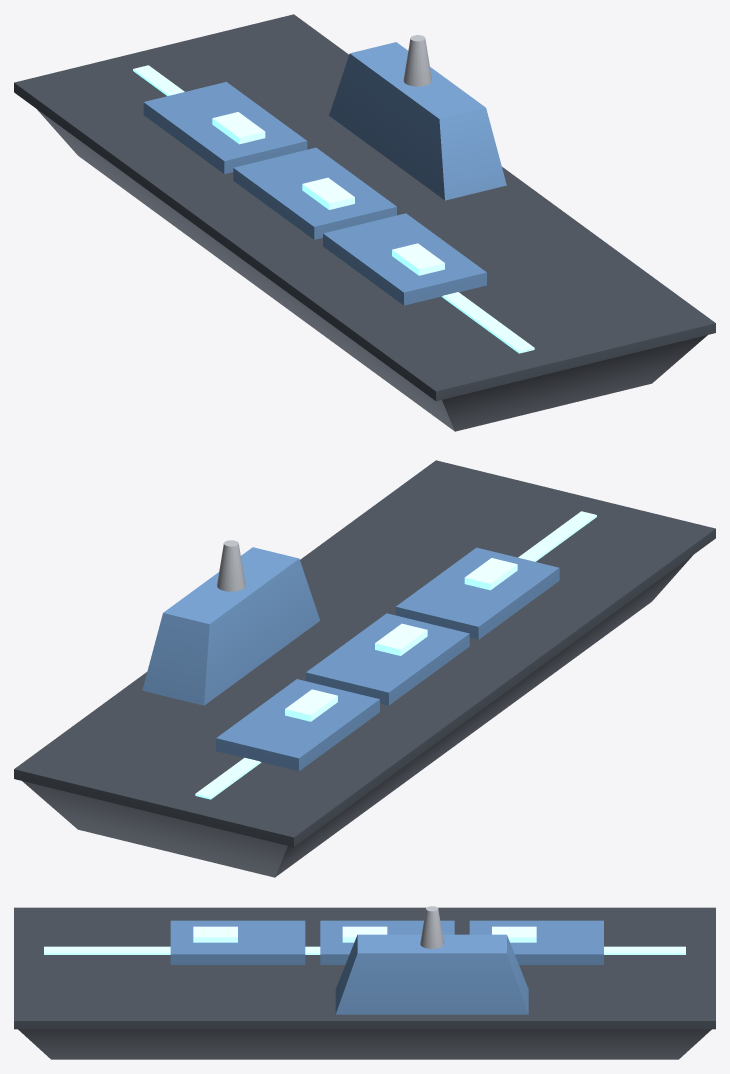
Rendered from carrier.glb.
The picture shows the model from 3 angles, top to bottom: view 1: azimuth 30°, elevation 25°; view 2: azimuth 150°, elevation 25°; view 3: azimuth 270°, elevation 25°; orthographic projection. The views are drawn at different scales.
Parts seen in each view (by area): view 1: Hull; view 2: Hull; view 3: Hull.
Part boxes in pixels (left/top/right/bottom): Hull: left=14, top=14, right=715, bottom=431; Hull: left=14, top=460, right=715, bottom=877; Hull: left=14, top=906, right=715, bottom=1059.
Bounding box in the file's own units: 2.16 × 1.32 × 5.64.
